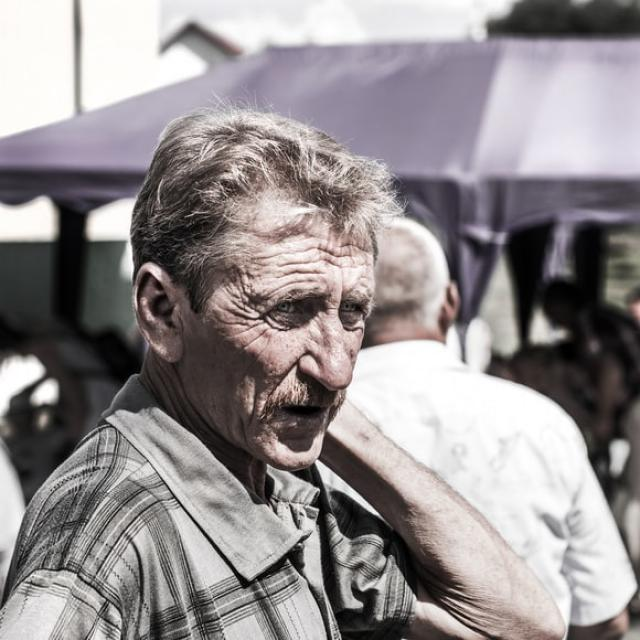Wrinkles: (267, 281, 316, 296), (250, 334, 271, 369), (254, 248, 315, 258), (235, 322, 264, 336), (244, 331, 266, 348), (240, 369, 250, 395), (277, 271, 325, 276), (280, 262, 312, 267), (324, 260, 343, 268), (317, 248, 336, 255), (348, 243, 359, 247), (359, 247, 368, 250), (217, 317, 223, 321), (225, 322, 236, 324), (343, 243, 348, 245), (338, 245, 343, 246)
